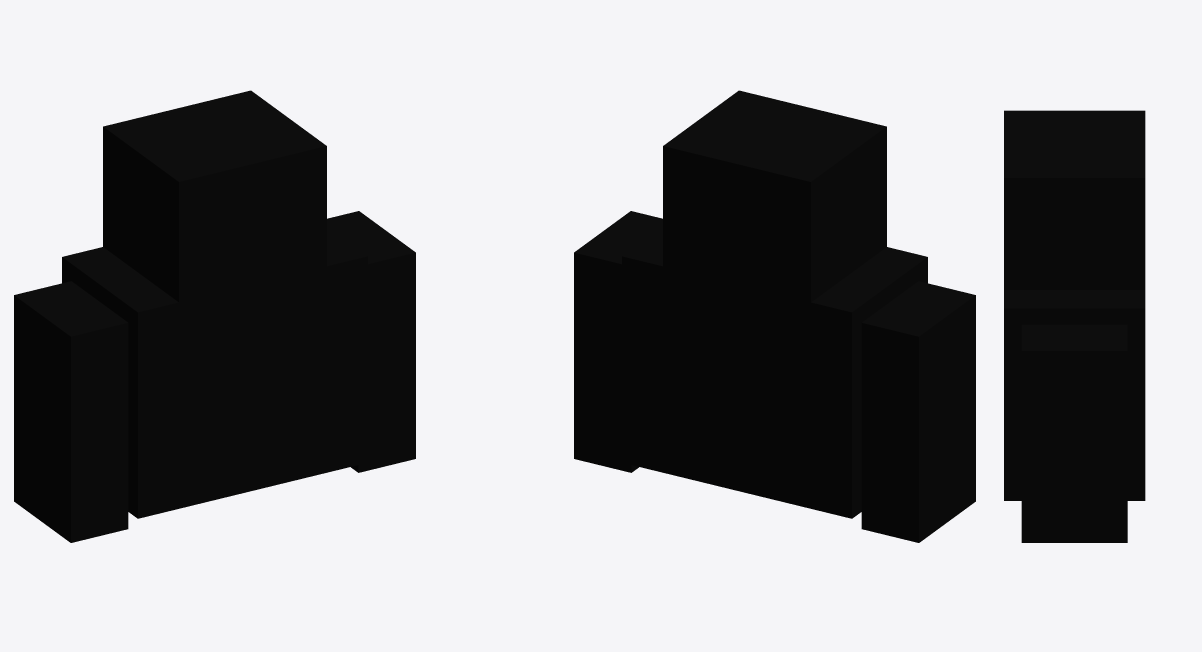
Rendered from boss_wild.gltf.
3 renders of one model, left to right at view 1: azimuth 30°, elevation 25°; view 2: azimuth 150°, elevation 25°; view 3: azimuth 270°, elevation 25°, orthographic. The views are drawn at different scales.
Visible parts, largest first — view 1: torso, head, arm_l, arm_r; view 2: torso, head, arm_l, arm_r; view 3: head, arm_r, torso.
Boxes of the visible parts, x1,y1,x2,y2 form: torso: (62,226,367,518); head: (103,90,326,302); arm_l: (14,281,128,542); arm_r: (327,211,415,472); torso: (622,226,927,518); head: (663,90,886,302); arm_l: (861,281,975,542); arm_r: (574,211,662,472); head: (1004,110,1145,289); arm_r: (1021,324,1127,542); torso: (1004,290,1145,500).
Size of the model in its own units: 1.59 by 2 by 0.65.
5 materials, 5 textured.
